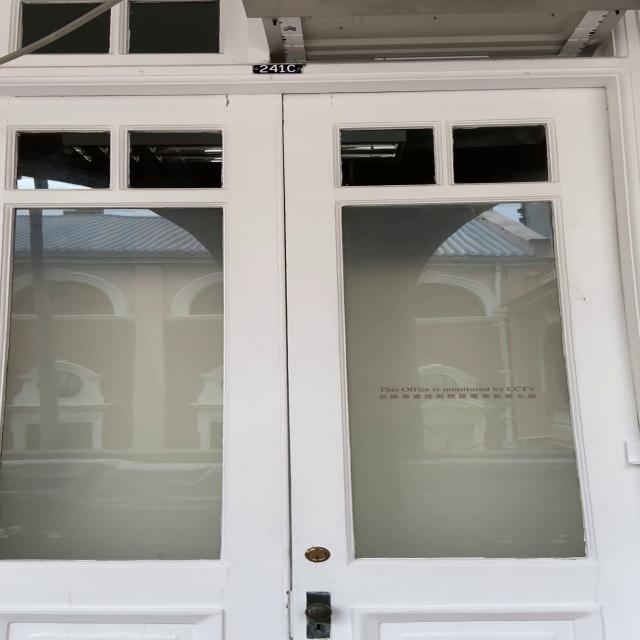room241c: (249, 63, 307, 76)
